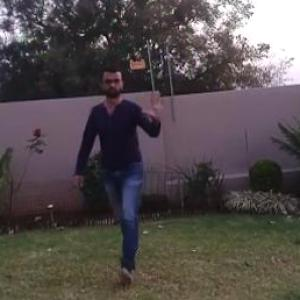follow_hand: (140, 87, 166, 120)
